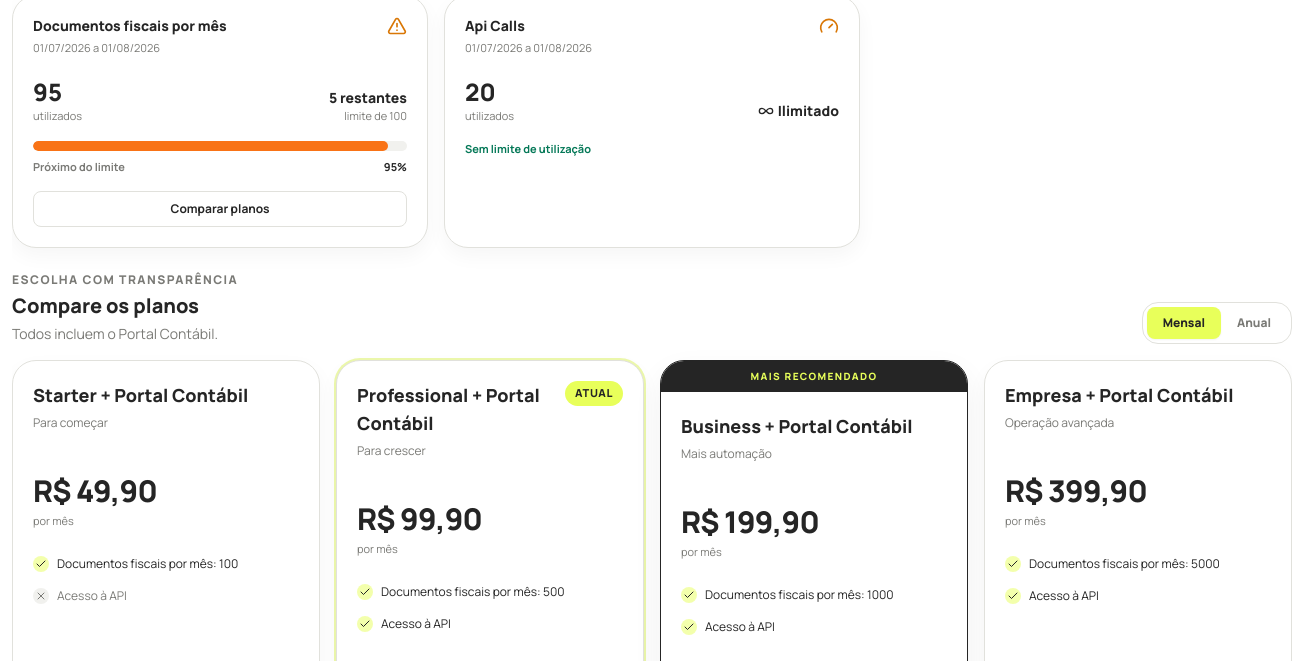
Test: página de assinatura › alterna preços mensais e anuais
The width and height of the screenshot is (1292, 661).
(page scrolled)
Click the button "Anual" at {"x": 1254, "y": 323}, box x1=1221 y1=307 x2=1287 y2=339
(page scrolled)
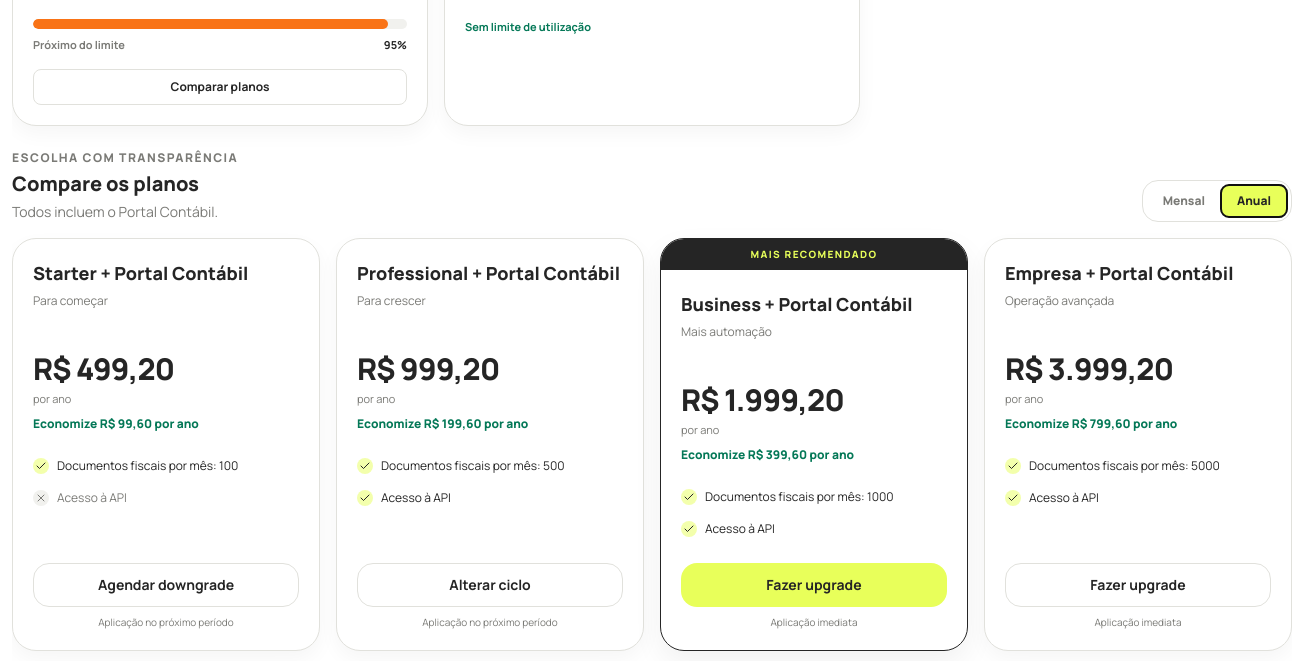
Expected: the text "R$ 1.999,20" is shown, x1=681 y1=379 x2=844 y2=420
Expected: the text "Economize R$ 99,60 por ano" is shown, x1=33 y1=414 x2=199 y2=432
Expected: the button "Alterar ciclo" is shown, x1=357 y1=562 x2=623 y2=606
